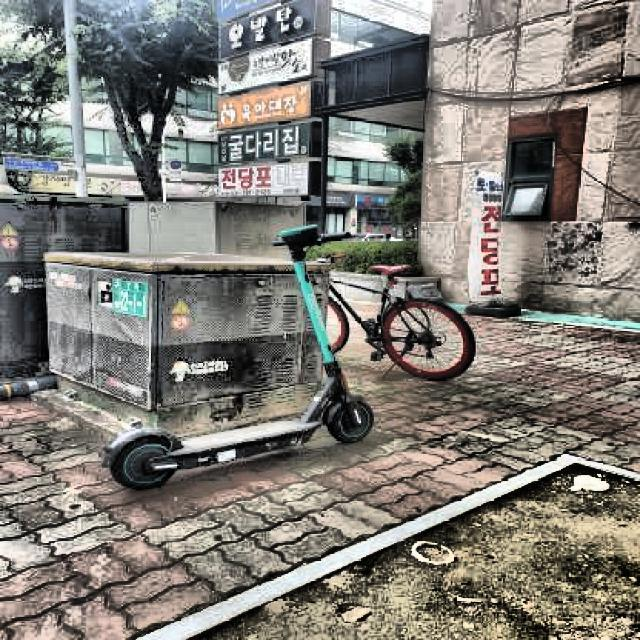bike: (293, 257, 477, 382)
car: (362, 233, 391, 243)
